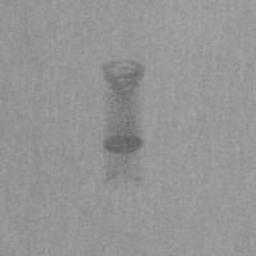Oil spot: (101, 58, 146, 191)
